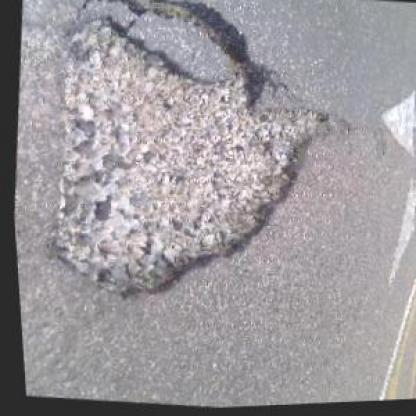pothole: (24, 0, 363, 329)
